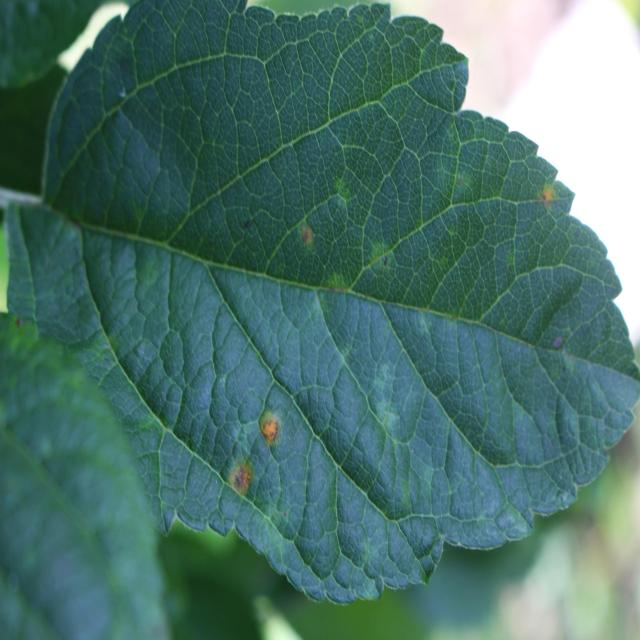Rust: (227, 458, 260, 497), (256, 412, 284, 450), (298, 222, 315, 254), (539, 180, 555, 213)
